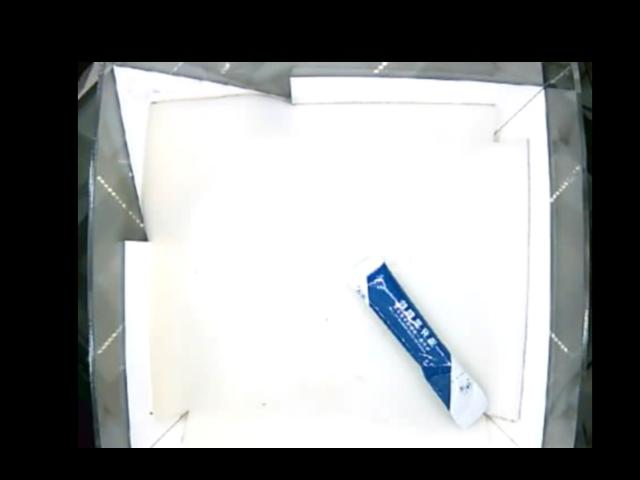Medicine: (347, 255, 488, 430)
